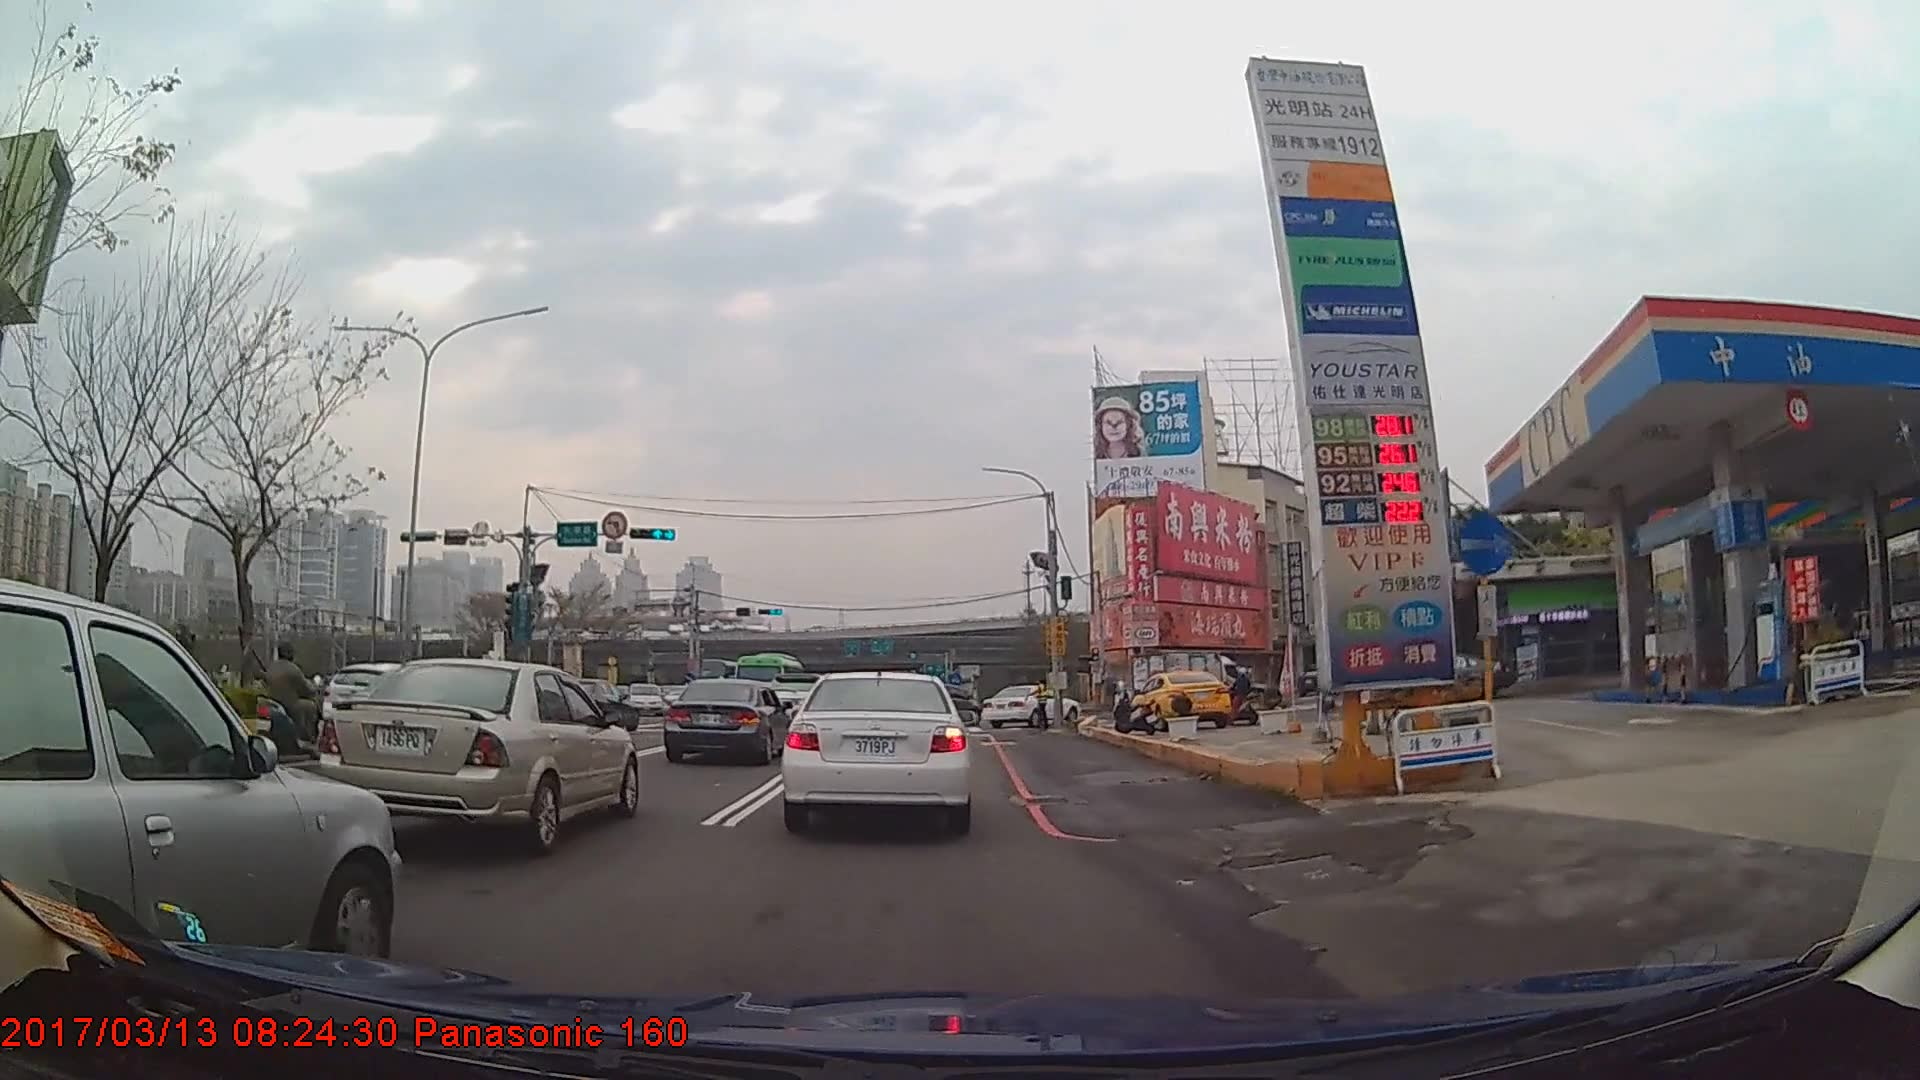pedestrian: (1025, 679, 1051, 732)
rider: (148, 625, 237, 780), (251, 641, 328, 765), (1327, 657, 1370, 719), (1224, 667, 1262, 729)
vehicle: (0, 577, 401, 996), (321, 658, 641, 856), (782, 665, 973, 833), (663, 677, 790, 765), (1127, 648, 1242, 714), (1134, 669, 1237, 730), (546, 677, 638, 731), (979, 682, 1079, 729), (732, 651, 807, 709)
